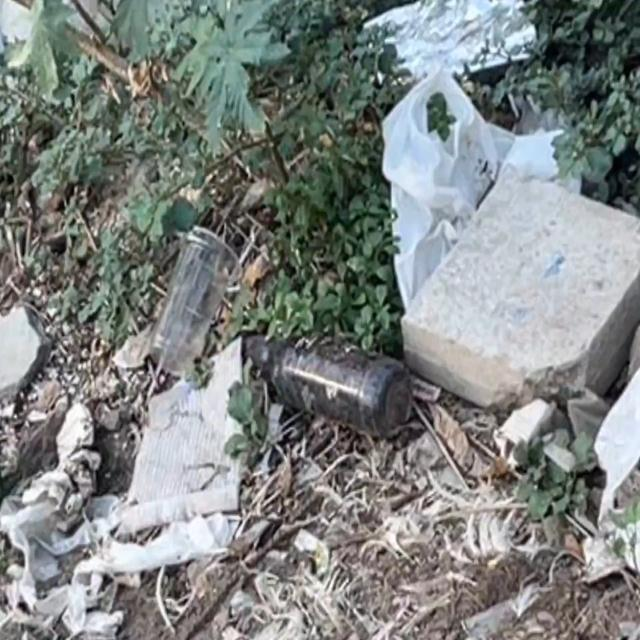paper: (4, 452, 246, 640)
plastic: (374, 63, 565, 242), (157, 208, 258, 388)
